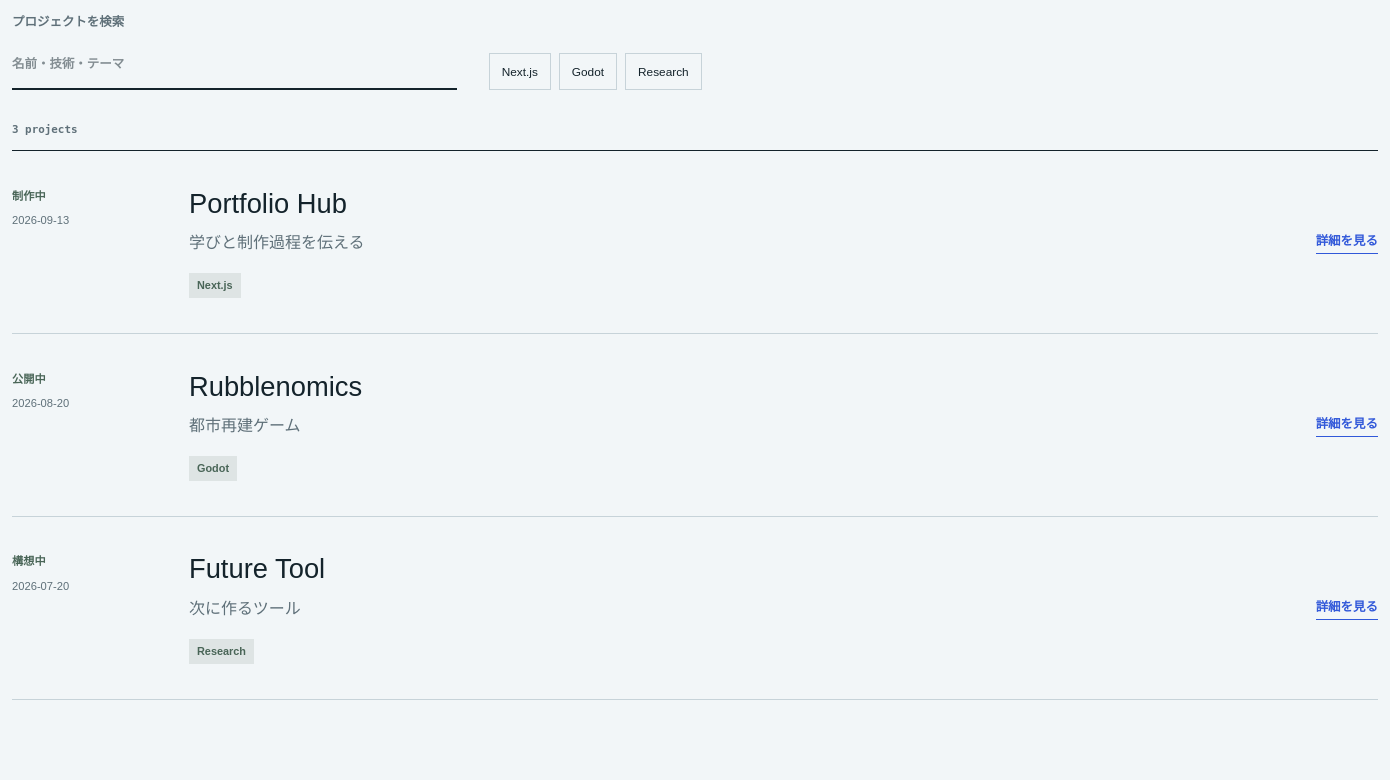
ProjectExplorer › toggles tag filters without losing other projects
Click the button "Next.js" at (520, 72), box x1=489 y1=53 x2=551 y2=90
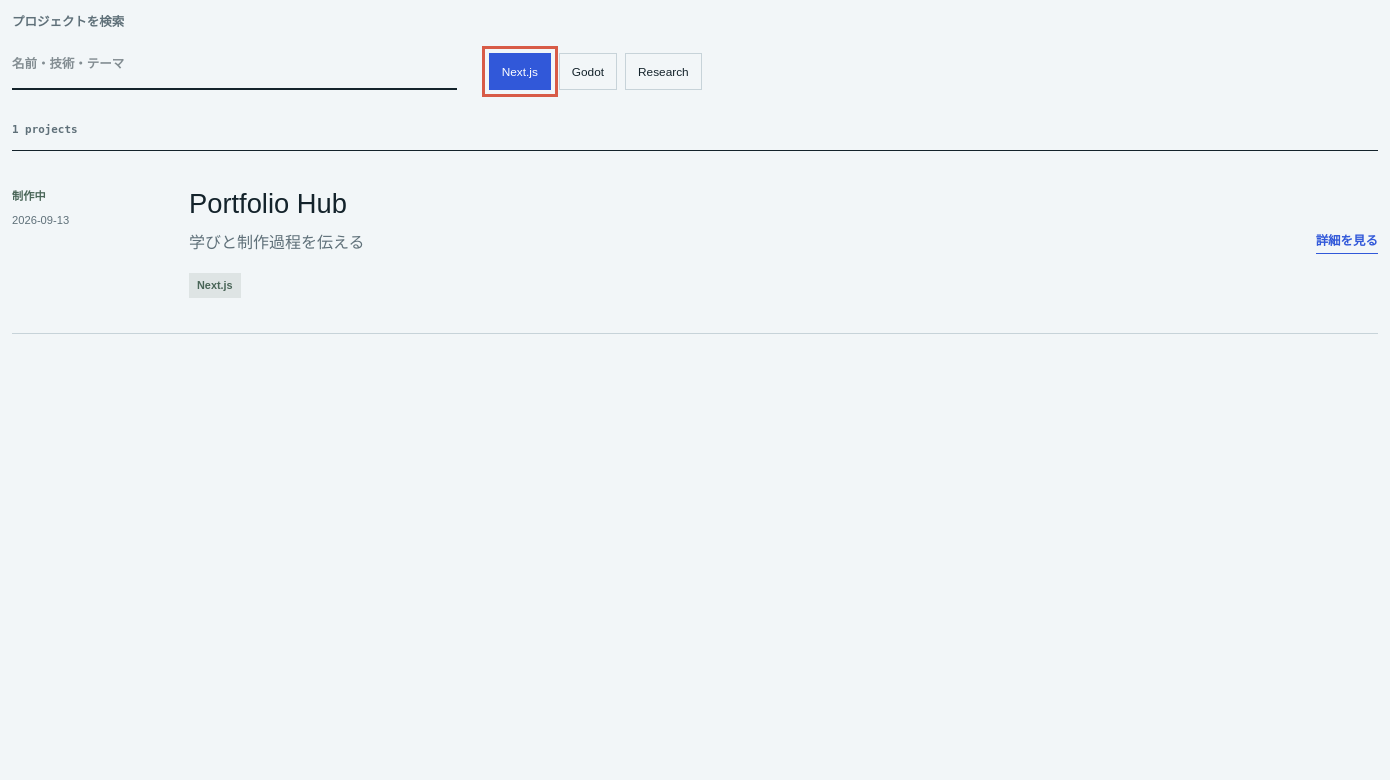
Expected: the text "1 projects" is shown, x1=12 y1=123 x2=78 y2=136
Click the button "Next.js" at (520, 72), box x1=489 y1=53 x2=551 y2=90
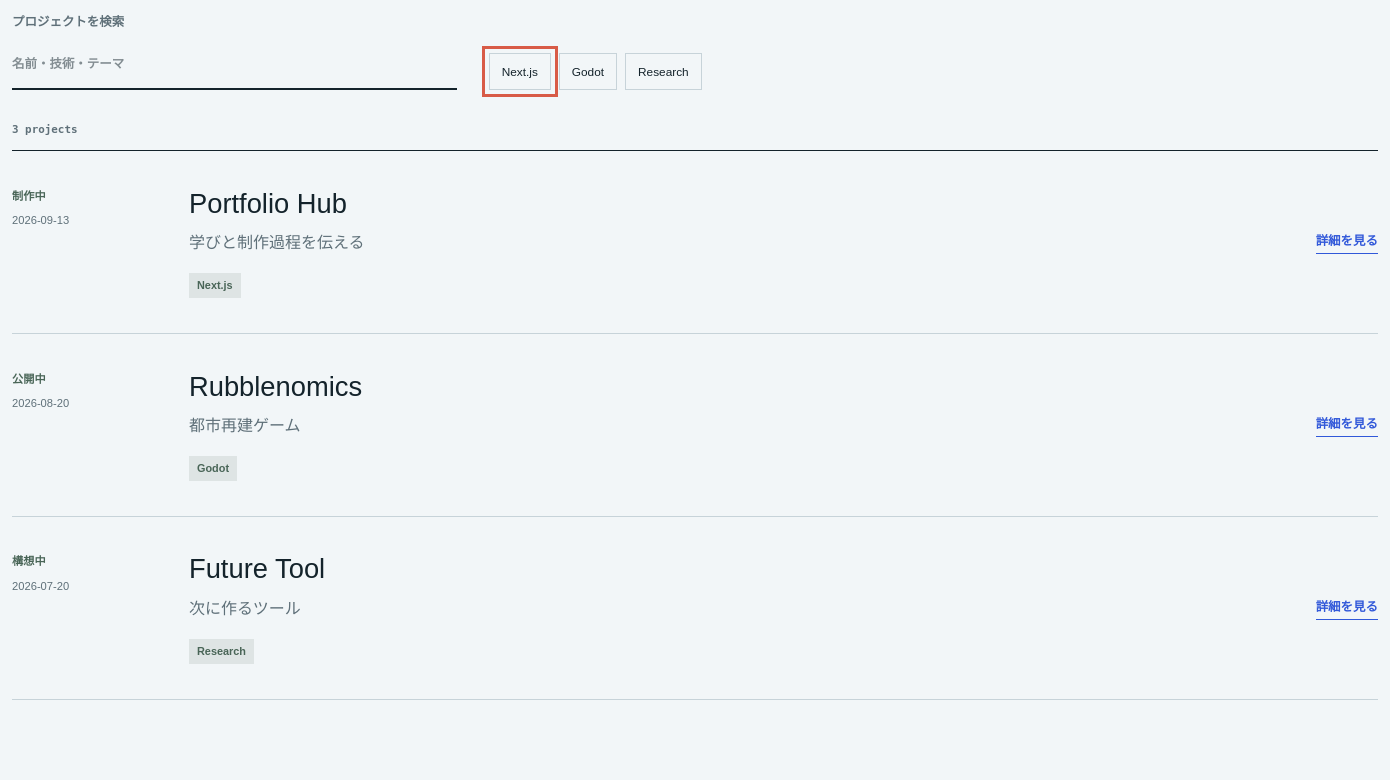
Expected: the text "3 projects" is shown, x1=12 y1=123 x2=78 y2=136
